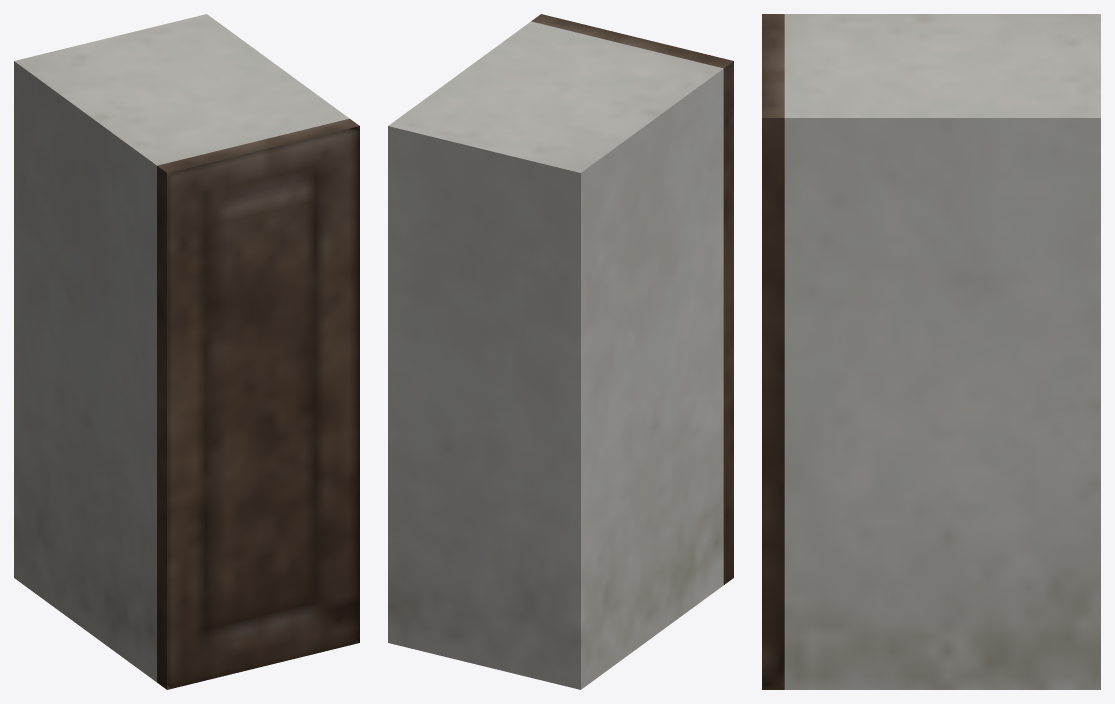
The model's file is SM_EC_House_Kitchen_Cupboard_Static_02.fbx.
3 renders of one model, left to right at view 1: azimuth 30°, elevation 25°; view 2: azimuth 150°, elevation 25°; view 3: azimuth 270°, elevation 25°, orthographic. The views are drawn at different scales.
Parts seen in each view (by area): view 1: SM_EC_House_Kitchen_Cupboard_Static_02; view 2: SM_EC_House_Kitchen_Cupboard_Static_02; view 3: SM_EC_House_Kitchen_Cupboard_Static_02.
Boxes of the visible parts, box(x1,y1,x2,y2) form: SM_EC_House_Kitchen_Cupboard_Static_02: box(14, 14, 359, 689); SM_EC_House_Kitchen_Cupboard_Static_02: box(388, 14, 733, 689); SM_EC_House_Kitchen_Cupboard_Static_02: box(762, 14, 1100, 689).
Bounding box in the file's own units: 0.5487 × 0.7546 × 1.41.
